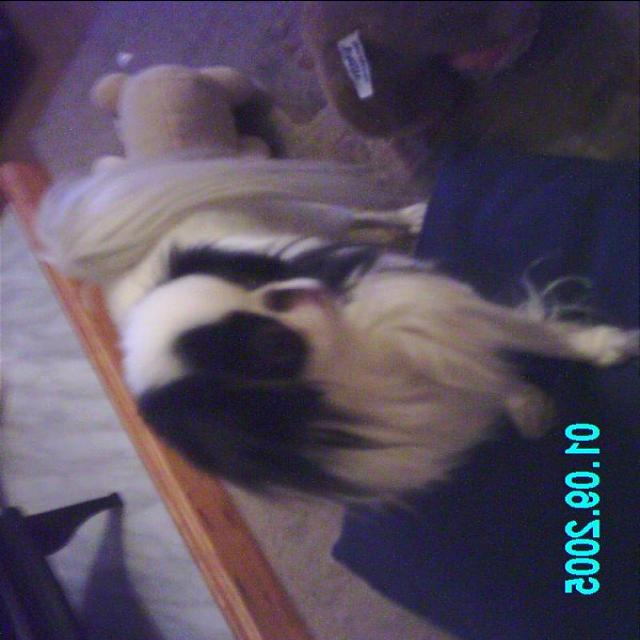husky: (43, 154, 636, 500)
